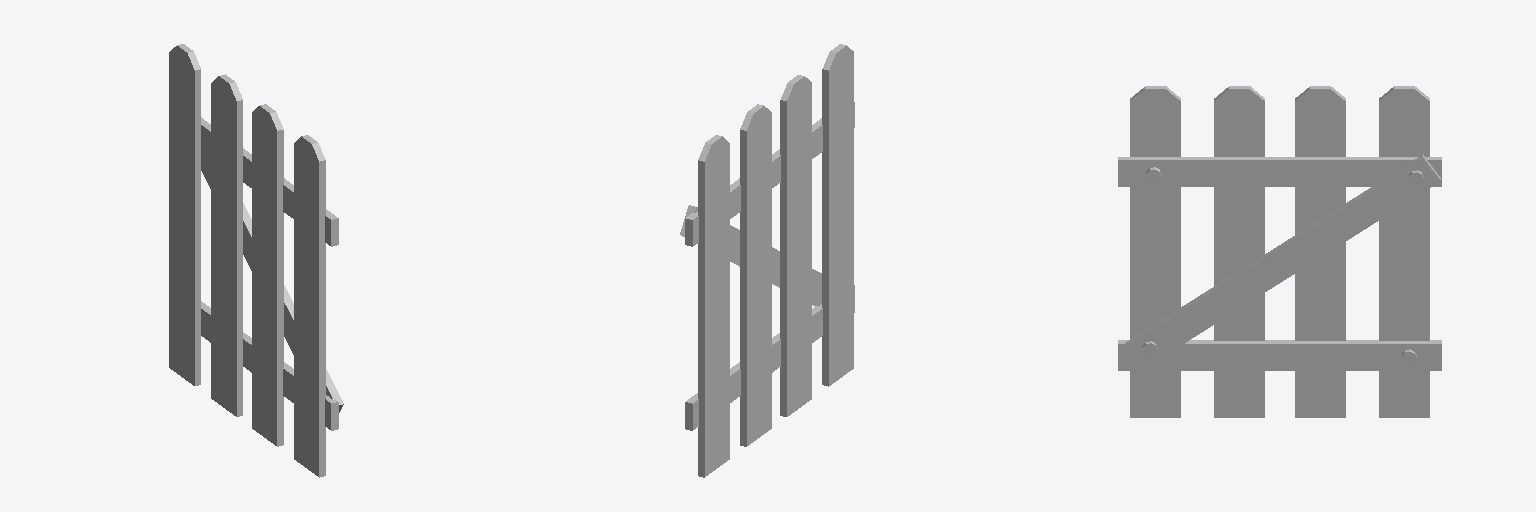
The model's file is płot3.obj.
3 renders of one model, left to right at view 1: azimuth 30°, elevation 25°; view 2: azimuth 150°, elevation 25°; view 3: azimuth 270°, elevation 25°, orthographic.
Visible parts, largest first — view 1: Cube.003; view 2: Cube.003; view 3: Cube.003.
Part boxes in pixels (x1,y1,x2,y2): Cube.003: (169, 44, 343, 477); Cube.003: (680, 44, 854, 477); Cube.003: (1118, 86, 1441, 417).
Size of the model in its own units: 0.3137 by 4.25 by 3.8.